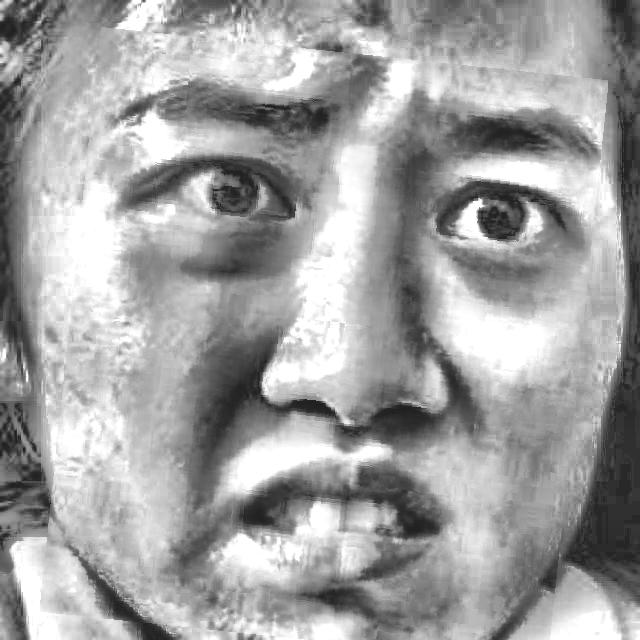angry: (53, 39, 593, 640)
